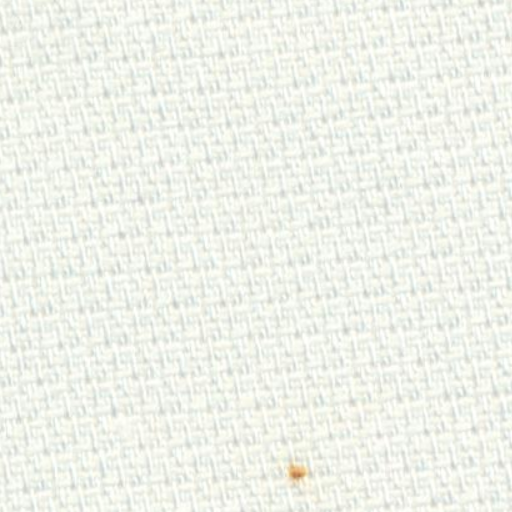WuZi: (268, 437, 324, 497)
